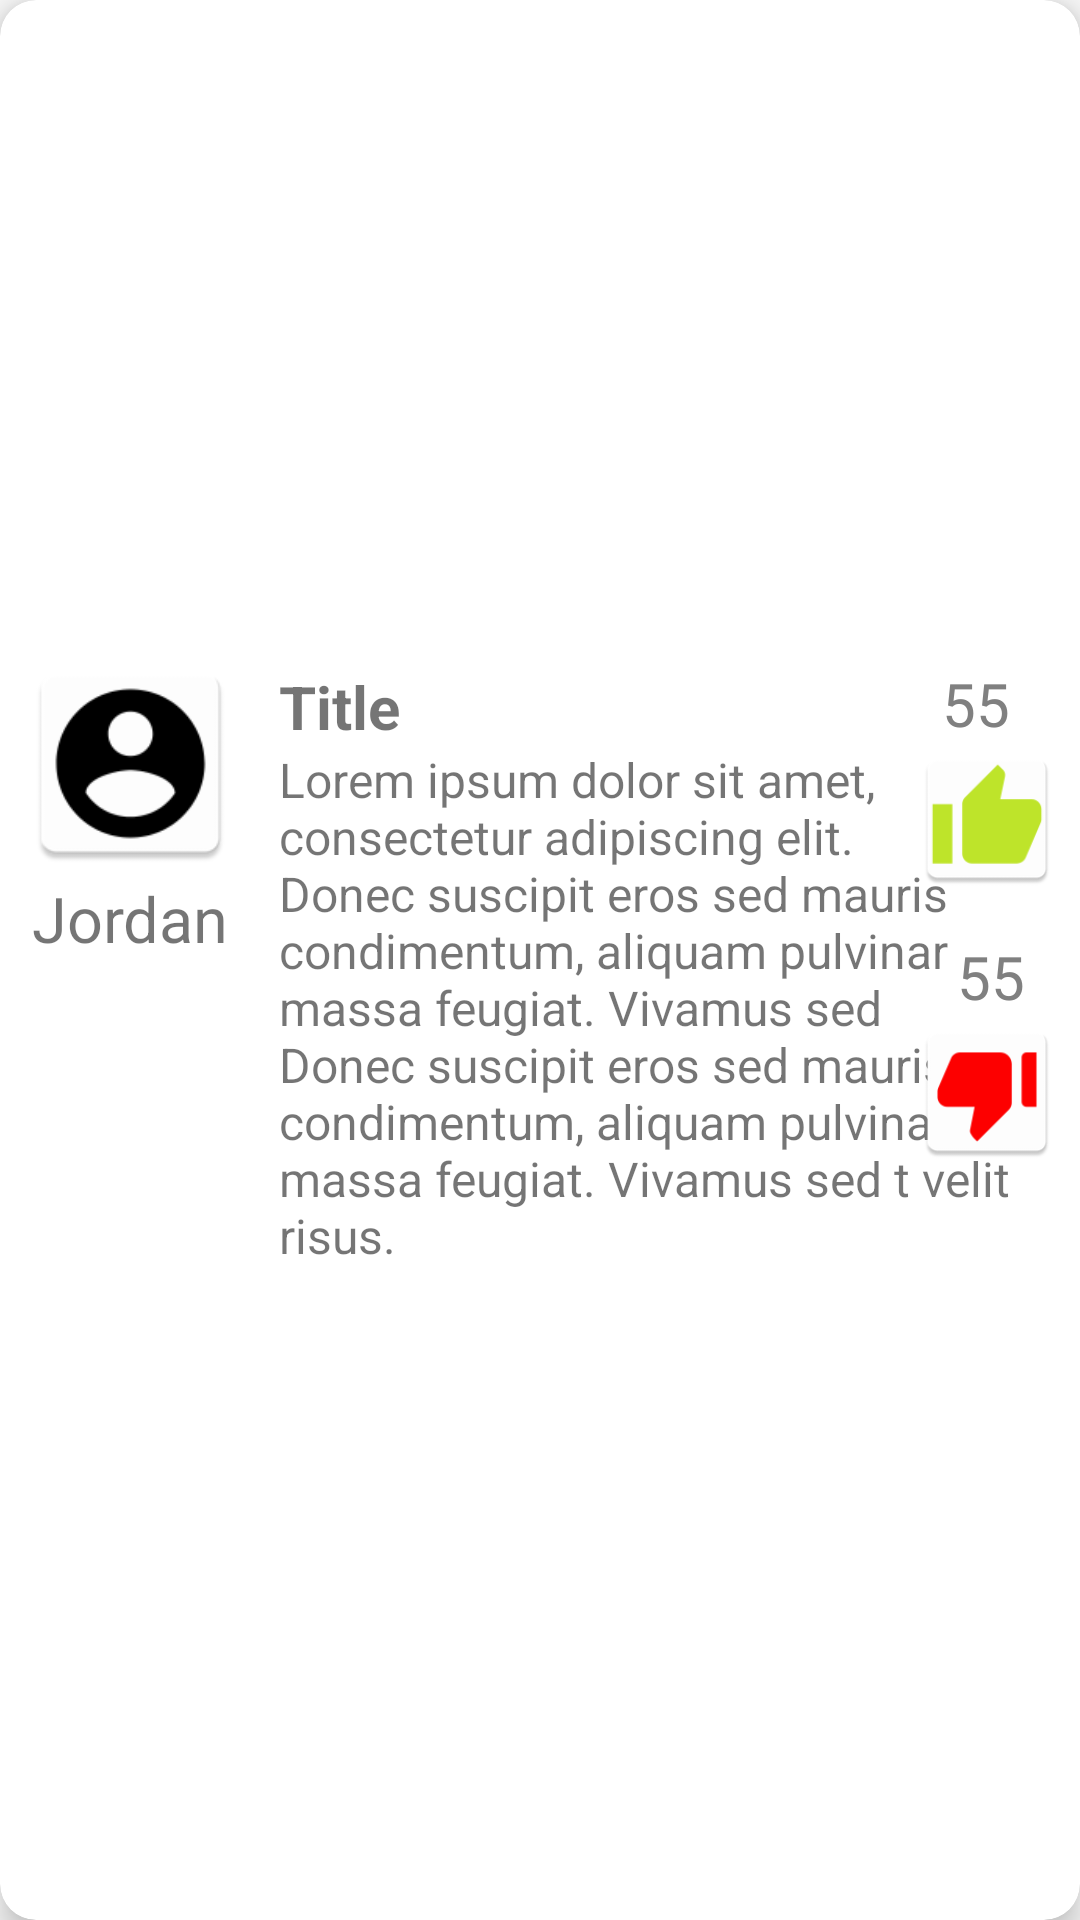

Named icons in this screenshot (1080×1920) and their bounding boxes, (x1, y1, x2, y2):
downvote: (912, 1042, 1047, 1167)
upvote: (914, 764, 1047, 883)
